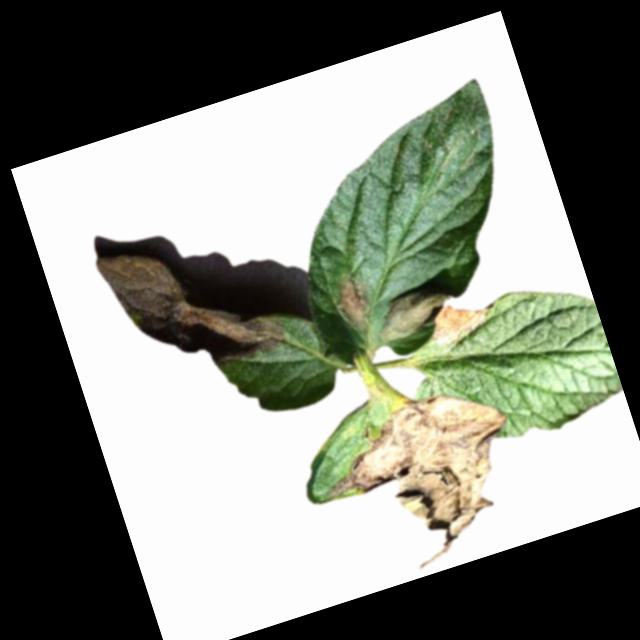Late_blight: (303, 374, 545, 591), (92, 210, 291, 398), (367, 281, 459, 345), (422, 293, 494, 347), (326, 272, 376, 334)
